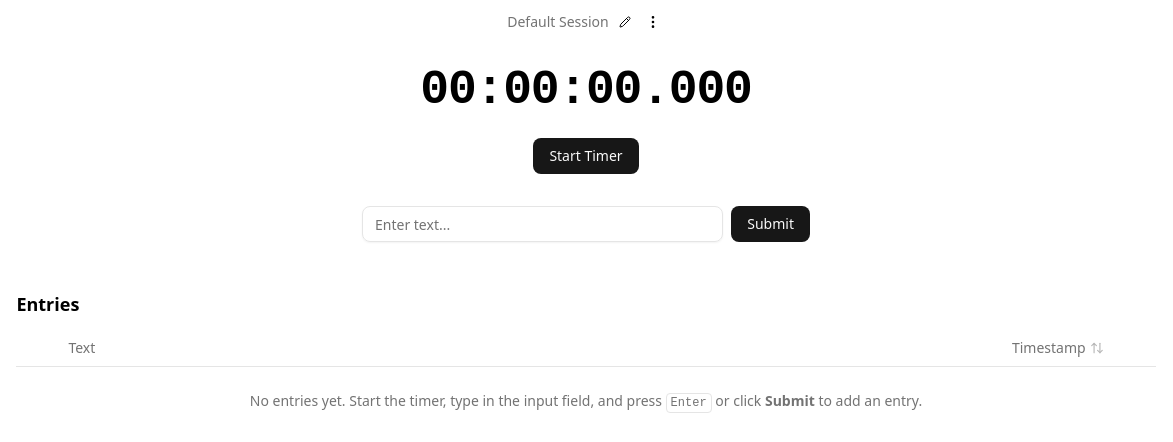
Test: Index › submits an entry when pressing Enter
Type "enter submit" into the field with test id "timer-input" at (543,224), box [362,206,723,242]
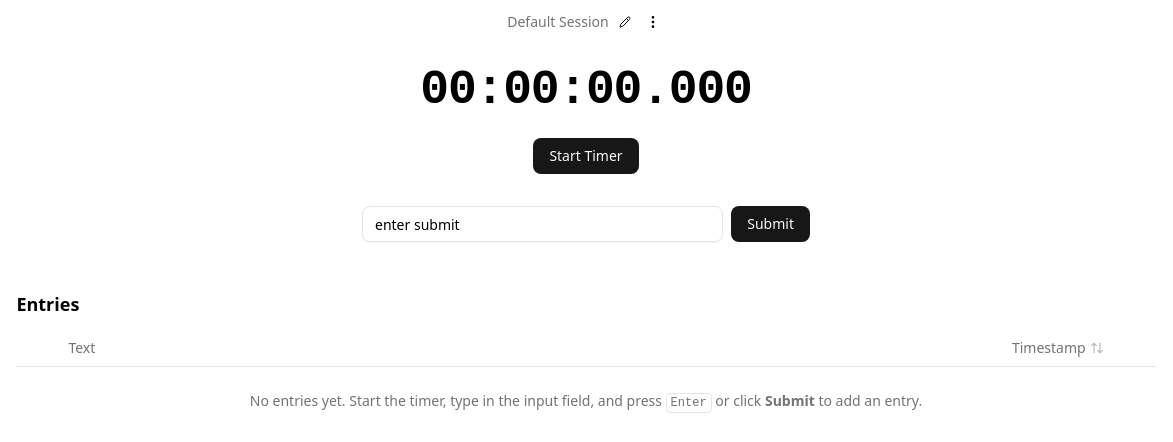
Press Enter in the field with test id "timer-input", box [362,206,723,242]
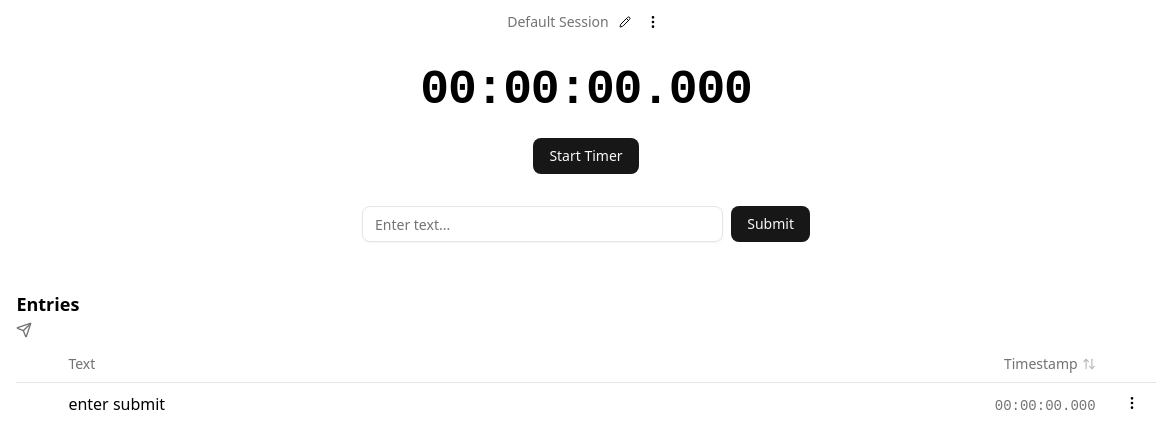
Result: the number of rows with test id "timer-entry" is 1 at [16,382,1156,425]
Result: the row with test id "timer-entry" shows "enter submit" at [68,393,165,415]
